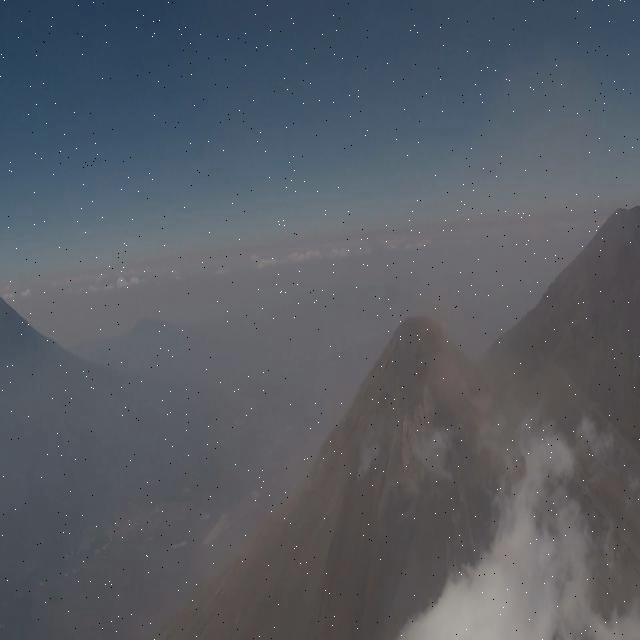Summit: (322, 304, 492, 476)
